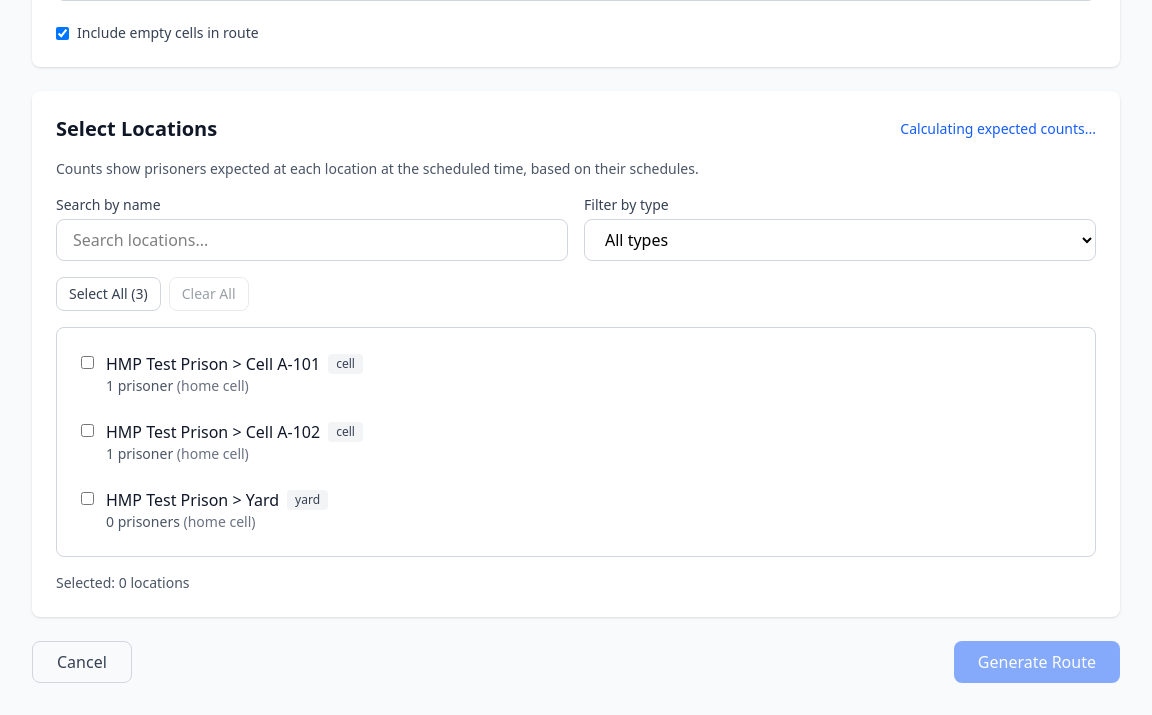
Test: Create Roll Call Page › should allow selecting locations for route
(page scrolled)
Note: First checkbox is "include empty", second is first location checkbox
Click the checkbox labelled "HMP Test Prison > Cell A-101 cell 1 prisoner (home cell)" at coordinates (88, 362), box left=81, top=356, right=94, bottom=369
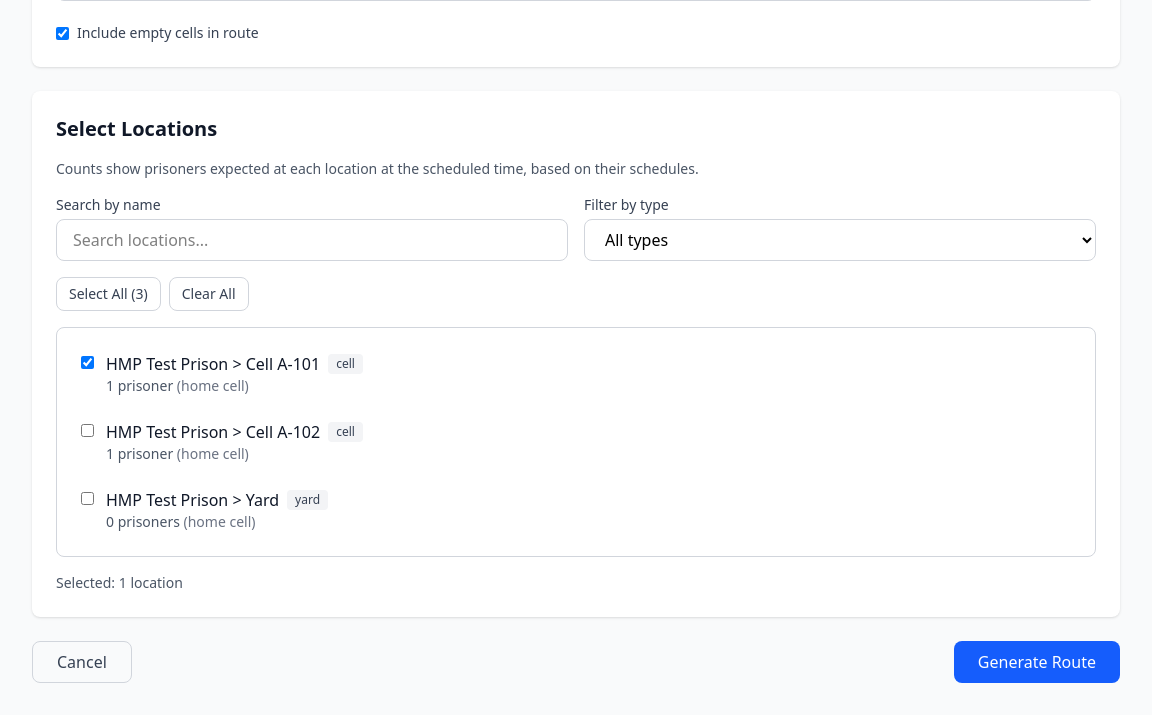
Expected: the text "Selected: 1 location" is shown, left=56, top=573, right=183, bottom=592
